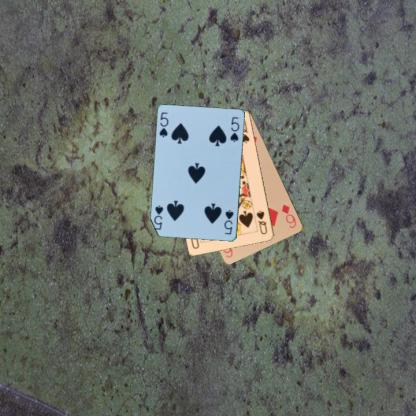5s: (156, 110, 170, 138), (222, 207, 234, 236)
6d: (279, 202, 298, 229)
Qs: (254, 208, 269, 236)
